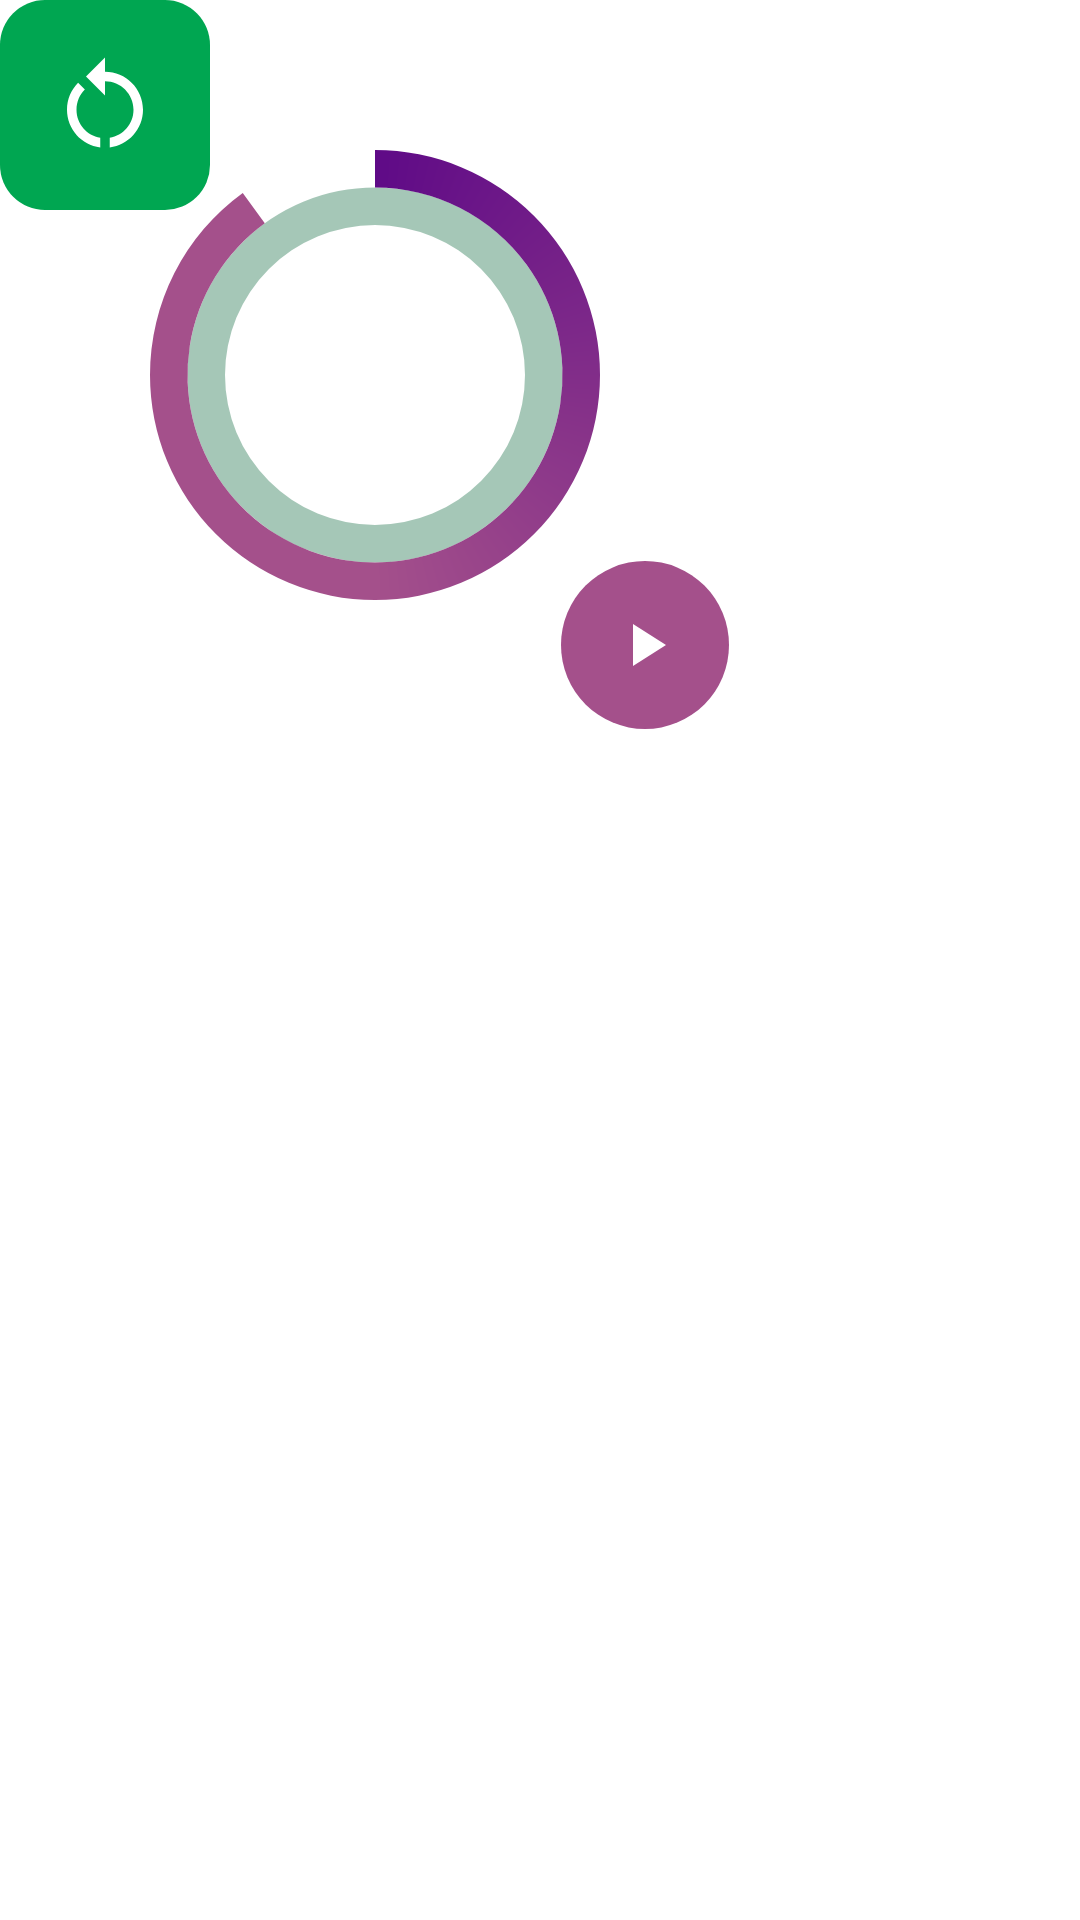

Named icons in this screenshot (1080px x 1920px) and their centers, [x,y]:
play arrow: [645,645]
restart: [105,105]
